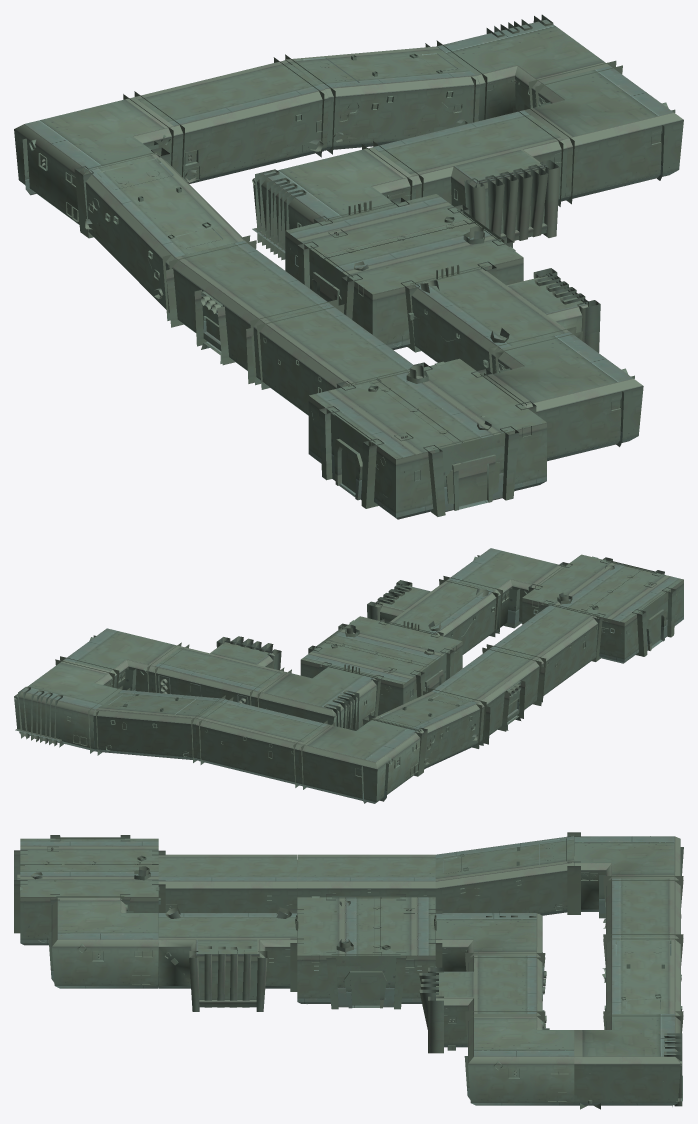
File: Combined_Mesh_root_scene_b20ae4d5__zombies2_diffuse_09_d56e2e54_c1f257.obj
3 views of the same model, one above another, from view 1: azimuth 30°, elevation 25°; view 2: azimuth 150°, elevation 25°; view 3: azimuth 270°, elevation 25° (orthographic). The views are drawn at different scales.
Bounding box in the file's own units: 77.06 × 11.5 × 96.9.
233 materials, 233 textured.
